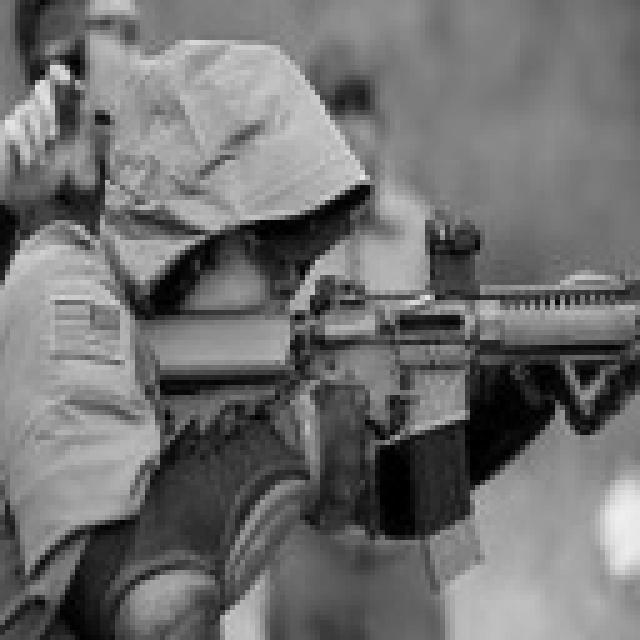Rifle: (125, 255, 640, 545)
